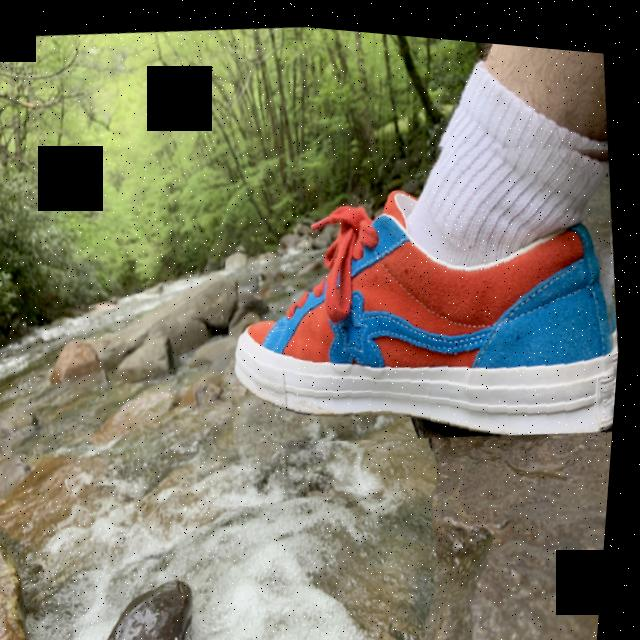shoe: (204, 90, 636, 465)
